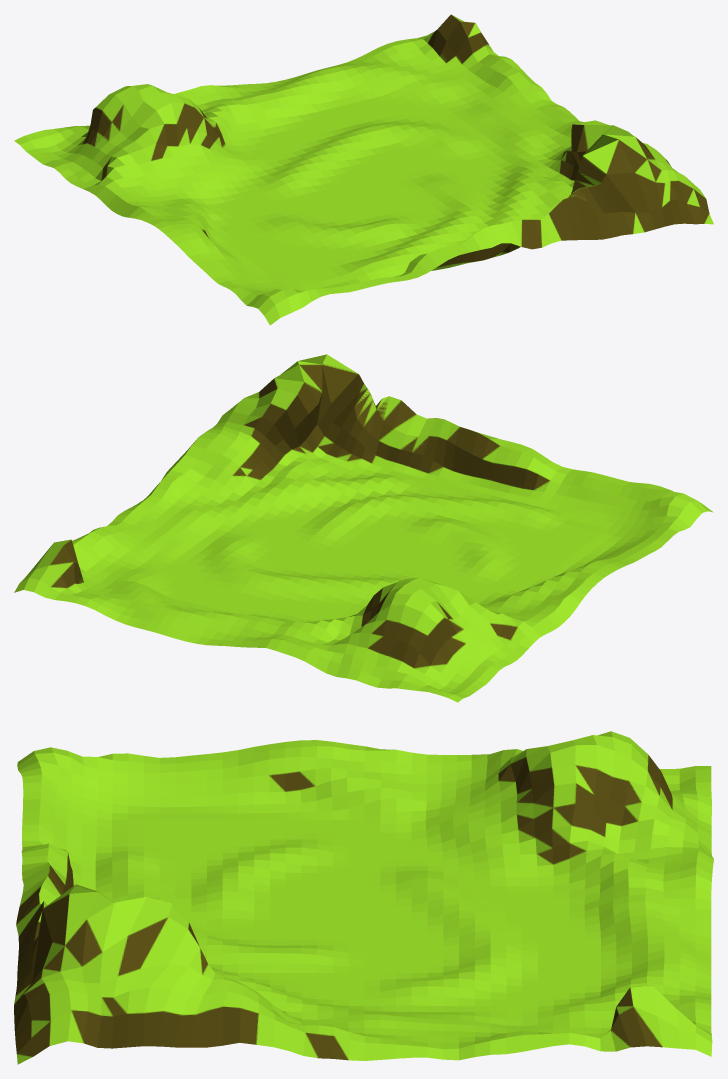
The model's file is terrain01.glb.
3 renders of one model, top to bottom at view 1: azimuth 30°, elevation 25°; view 2: azimuth 150°, elevation 25°; view 3: azimuth 270°, elevation 25°, orthographic. The views are drawn at different scales.
Parts seen in each view (by area): view 1: Plane; view 2: Plane; view 3: Plane.
Part boxes in pixels (x1,y1,x2,y2): Plane: [14, 14, 713, 325]; Plane: [14, 354, 713, 702]; Plane: [14, 731, 713, 1064].
Size of the model in its own units: 40.69 by 7.92 by 40.46.
Materials: 1 (1 with a texture image).
